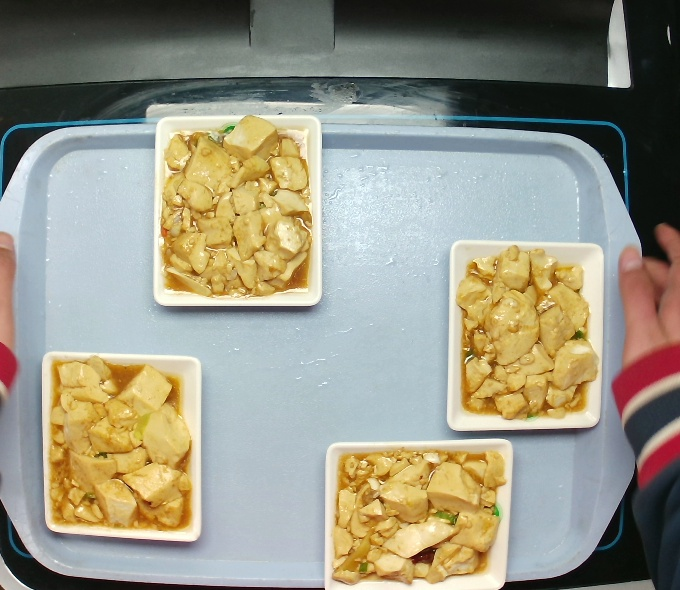wcq-DouFu: (39, 354, 195, 538), (162, 119, 313, 304), (452, 250, 605, 421), (331, 446, 498, 581)
